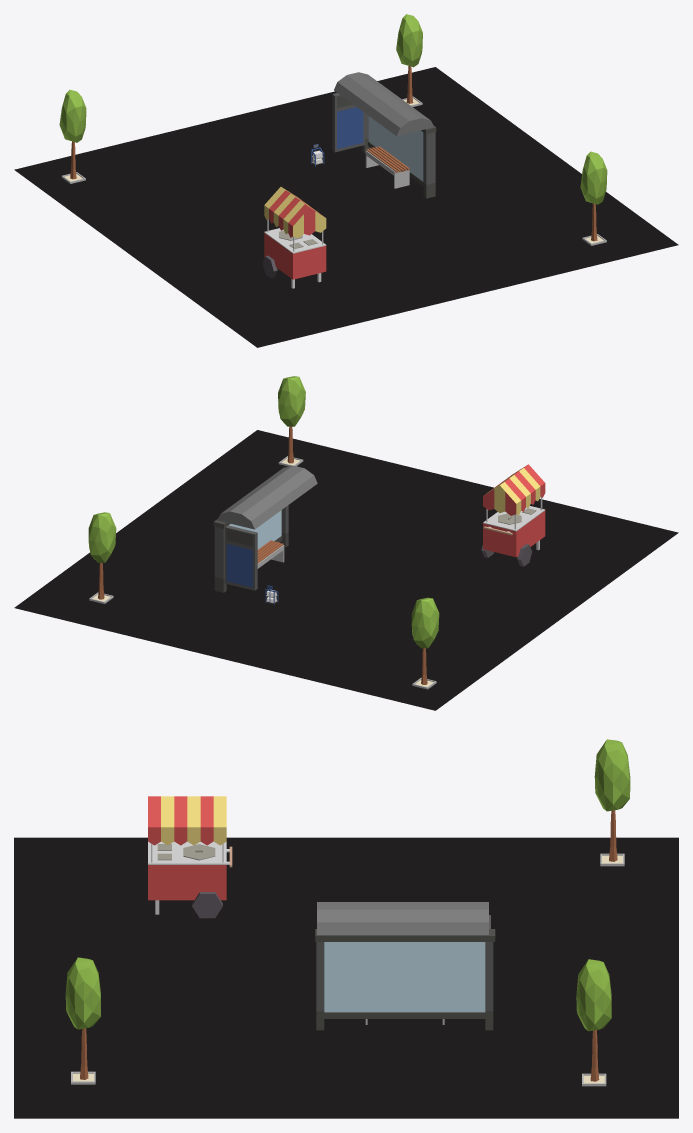
Rendered from Tile 12_Combined_2.fbx.
The picture shows the model from 3 angles, top to bottom: view 1: azimuth 30°, elevation 25°; view 2: azimuth 150°, elevation 25°; view 3: azimuth 270°, elevation 25°; orthographic projection. The views are drawn at different scales.
Parts seen in each view (by area): view 1: MeshBaker_Cluster_0_mesh_mesh; view 2: MeshBaker_Cluster_0_mesh_mesh; view 3: MeshBaker_Cluster_0_mesh_mesh.
Boxes of the visible parts, left/top/right/bottom form: MeshBaker_Cluster_0_mesh_mesh: left=14, top=14, right=678, bottom=347; MeshBaker_Cluster_0_mesh_mesh: left=14, top=376, right=678, bottom=710; MeshBaker_Cluster_0_mesh_mesh: left=14, top=739, right=678, bottom=1118.
Bounding box in the file's own units: 3000 × 590 × 3000.
